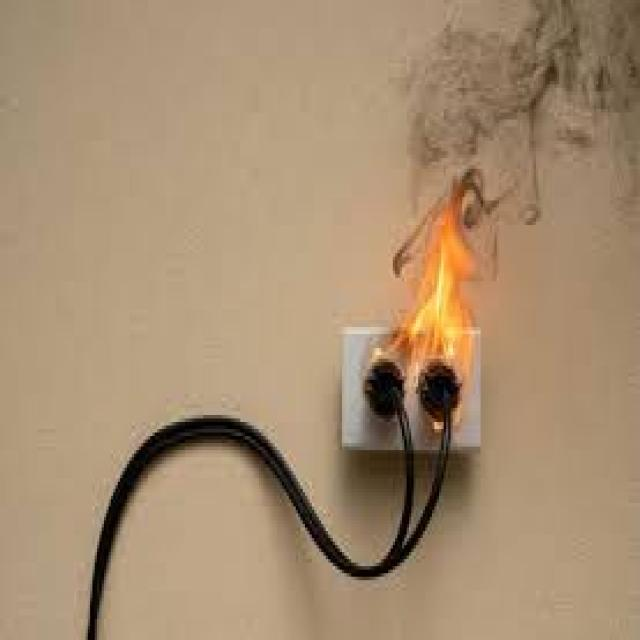Fire: (368, 212, 486, 366)
Smoke: (394, 0, 640, 210)
